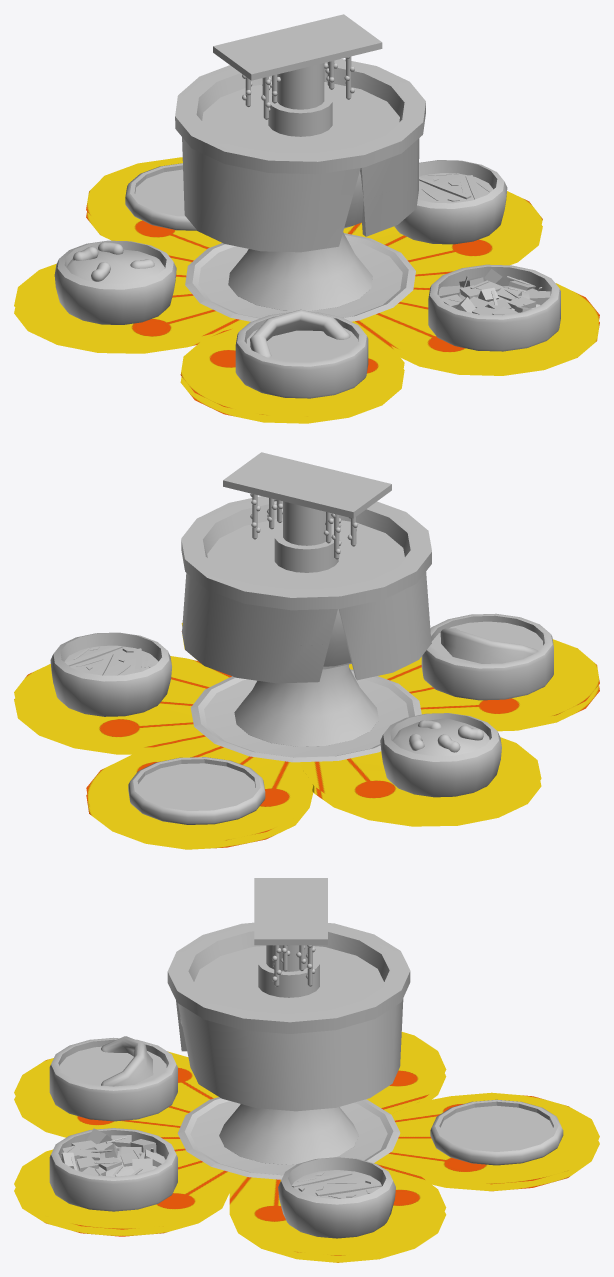
File: Sinsello.FBX
The picture shows the model from 3 angles, top to bottom: view 1: azimuth 30°, elevation 25°; view 2: azimuth 150°, elevation 25°; view 3: azimuth 270°, elevation 25°; orthographic projection. The views are drawn at different scales.
Visible parts, largest first — view 1: ChamferCyl001, Cylinder001, ChamferCyl023, Box001, ChamferCyl007, ChamferCyl002, ChamferCyl024, ChamferCyl006, Cylinder017, ChamferBox001, Cylinder016, Cylinder008 (+2 smaller); view 2: ChamferCyl001, Cylinder001, ChamferCyl006, ChamferCyl024, ChamferCyl002, Box001, ChamferCyl007, ChamferBox001, Cylinder016, Cylinder008, Cylinder017, Cylinder009 (+1 smaller); view 3: ChamferCyl001, Cylinder001, ChamferCyl006, ChamferCyl024, ChamferCyl023, ChamferCyl002, Box001, Cylinder017, Cylinder008, ChamferBox001, Cylinder019, Cylinder009.
Boxes of the visible parts, left/top/right/bottom form: ChamferCyl001: left=175, top=59, right=425, bottom=321; Cylinder001: left=14, top=157, right=599, bottom=423; ChamferCyl023: left=428, top=264, right=560, bottom=351; Box001: left=213, top=14, right=382, bottom=80; ChamferCyl007: left=54, top=240, right=176, bottom=324; ChamferCyl002: left=235, top=312, right=368, bottom=398; ChamferCyl024: left=394, top=160, right=507, bottom=244; ChamferCyl006: left=125, top=163, right=197, bottom=230; Cylinder017: left=247, top=328, right=357, bottom=362; ChamferBox001: left=250, top=309, right=350, bottom=357; Cylinder016: left=66, top=248, right=164, bottom=283; Cylinder008: left=268, top=90, right=332, bottom=136; ChamferCyl001: left=181, top=496, right=431, bottom=762; Cylinder001: left=14, top=623, right=599, bottom=849; ChamferCyl006: left=128, top=757, right=265, bottom=824; ChamferCyl024: left=50, top=632, right=171, bottom=716; ChamferCyl002: left=421, top=613, right=553, bottom=700; Box001: left=223, top=452, right=391, bottom=518; ChamferCyl007: left=380, top=713, right=501, bottom=797; ChamferBox001: left=440, top=628, right=538, bottom=663; Cylinder016: left=392, top=718, right=489, bottom=756; Cylinder008: left=274, top=527, right=338, bottom=572; Cylinder017: left=432, top=621, right=542, bottom=663; Cylinder009: left=283, top=501, right=325, bottom=545; ChamferCyl001: left=167, top=922, right=410, bottom=1179; Cylinder001: left=14, top=1032, right=599, bottom=1262; ChamferCyl006: left=430, top=1099, right=563, bottom=1165; ChamferCyl024: left=278, top=1157, right=395, bottom=1238; ChamferCyl023: left=49, top=1128, right=177, bottom=1211; ChamferCyl002: left=49, top=1037, right=177, bottom=1121; Box001: left=254, top=878, right=327, bottom=945; Cylinder017: left=60, top=1046, right=166, bottom=1085; Cylinder008: left=258, top=953, right=319, bottom=997; ChamferBox001: left=101, top=1036, right=153, bottom=1086; Cylinder019: left=293, top=1170, right=382, bottom=1198; Cylinder009: left=266, top=945, right=307, bottom=971.
Size of the model in its own units: 611 by 286 by 646.
